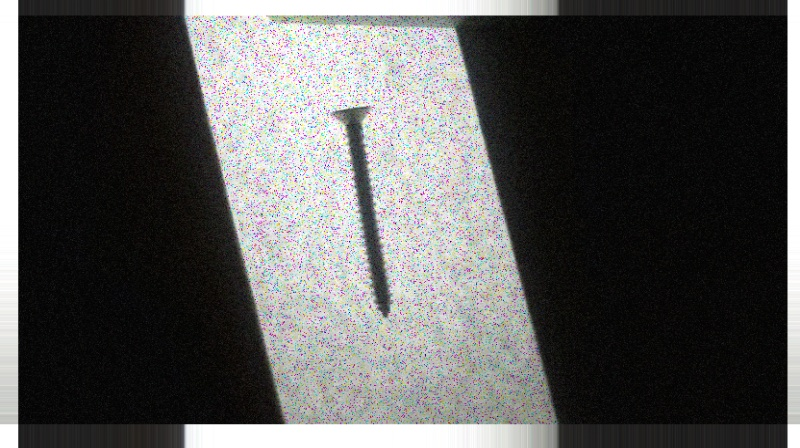S002: (327, 102, 393, 318)
